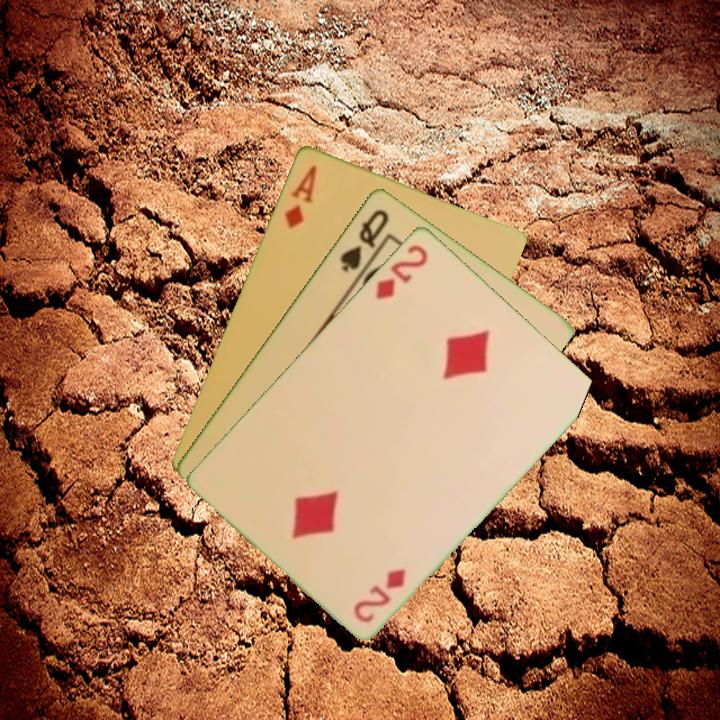2d: (372, 240, 431, 302), (350, 564, 409, 626)
Ad: (280, 161, 320, 231)
Qs: (336, 205, 392, 275)
